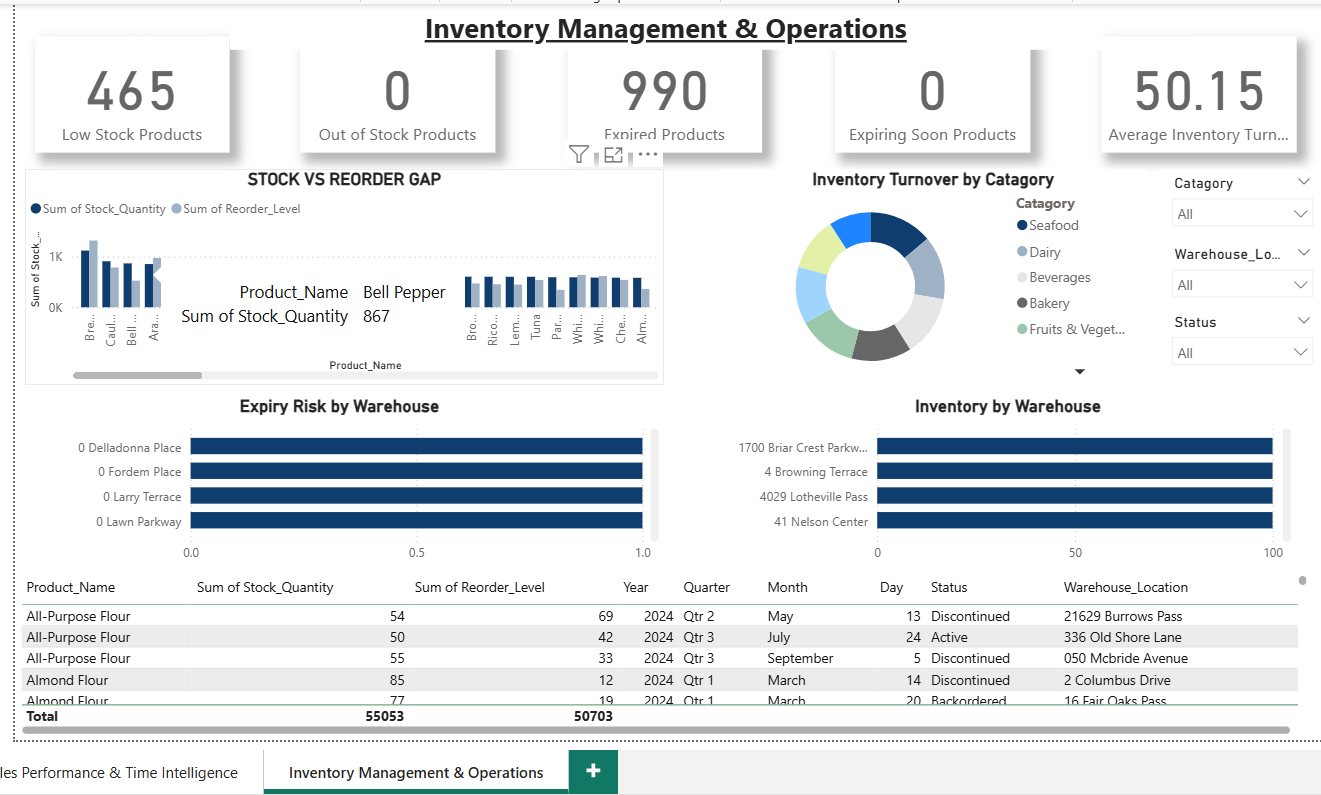

The dashboard page shown, as its layout file describes it:
{"tool":"powerbi","page":{"name":"Inventory Management & Operations","canvas":[1280,720],"ordinal":1},"visuals":[{"type":"card","fields":{"Values":["Grocery_Inventory_and_Sales_Dataset.Low Stock Products"]},"box":[20,31.2,190,113.8],"z":0},{"type":"card","fields":{"Values":["Grocery_Inventory_and_Sales_Dataset.Out of Stock Products"]},"box":[278.8,31.2,191.2,113.8],"z":1000},{"type":"card","fields":{"Values":["Grocery_Inventory_and_Sales_Dataset.Expired Products"]},"box":[540,31.2,190,113.8],"z":2000},{"type":"card","fields":{"Values":["Grocery_Inventory_and_Sales_Dataset.Expiring Soon Products"]},"box":[802.5,31.2,191.2,113.8],"z":3000},{"type":"card","fields":{"Values":["Grocery_Inventory_and_Sales_Dataset.Average Inventory Turnover"]},"box":[1062.5,31.2,191.2,113.8],"z":4000},{"type":"clusteredColumnChart","title":"STOCK VS REORDER GAP","fields":{"Category":["Grocery_Inventory_and_Sales_Dataset.Product_Name"],"Y":["Sum(Grocery_Inventory_and_Sales_Dataset.Stock_Quantity)","Sum(Grocery_Inventory_and_Sales_Dataset.Reorder_Level)"]},"box":[10,161.2,625,211.2],"z":5000},{"type":"donutChart","title":"Inventory Turnover by Catagory","fields":{"Category":["Grocery_Inventory_and_Sales_Dataset.Catagory"],"Y":["Grocery_Inventory_and_Sales_Dataset.Average Inventory Turnover"]},"box":[690,161.2,417.5,211.2],"z":6000},{"type":"barChart","title":"Inventory by Warehouse","fields":{"Category":["Grocery_Inventory_and_Sales_Dataset.Warehouse_Location"],"Y":["Grocery_Inventory_and_Sales_Dataset.Inventory by Warehouse"]},"box":[690,382.5,563.8,172.5],"z":7000},{"type":"barChart","title":"Expiry Risk by Warehouse","fields":{"Category":["Grocery_Inventory_and_Sales_Dataset.Warehouse_Location"],"Y":["Grocery_Inventory_and_Sales_Dataset.Expired Products"]},"box":[0,382.5,635,172.5],"z":8000},{"type":"tableEx","fields":{"Values":["Grocery_Inventory_and_Sales_Dataset.Product_Name","Sum(Grocery_Inventory_and_Sales_Dataset.Stock_Quantity)","Sum(Grocery_Inventory_and_Sales_Dataset.Reorder_Level)","Grocery_Inventory_and_Sales_Dataset.Expiration_Date.Variation.Date Hierarchy.Year","Grocery_Inventory_and_Sales_Dataset.Expiration_Date.Variation.Date Hierarchy.Quarter","Grocery_Inventory_and_Sales_Dataset.Expiration_Date.Variation.Date Hierarchy.Month","Grocery_Inventory_and_Sales_Dataset.Expiration_Date.Variation.Date Hierarchy.Day","Grocery_Inventory_and_Sales_Dataset.Status","Grocery_Inventory_and_Sales_Dataset.Warehouse_Location"]},"box":[0,554.4,1269.3,166],"z":9000},{"type":"slicer","fields":{"Values":["Grocery_Inventory_and_Sales_Dataset.Catagory"]},"box":[1121.2,161.2,158.8,78.8],"z":10000},{"type":"slicer","fields":{"Values":["Grocery_Inventory_and_Sales_Dataset.Warehouse_Location"]},"box":[1121.2,231.2,158.8,71.2],"z":11000},{"type":"slicer","fields":{"Values":["Grocery_Inventory_and_Sales_Dataset.Status"]},"box":[1121.2,297.5,158.8,85],"z":12000},{"type":"textbox","box":[210,0,852.5,45],"z":13000}]}

Visuals, with their boxes on the page's 1280x720 design canvas (x1, y1, x2, y2). These are canvas units, not pixel positions in the 1321x795 screenshot, which may show the page scaled, cropped or inside an application window:
card - Grocery_Inventory_and_Sales_Dataset.Low Stock Products: crop(20, 31, 210, 145)
card - Grocery_Inventory_and_Sales_Dataset.Out of Stock Products: crop(279, 31, 470, 145)
card - Grocery_Inventory_and_Sales_Dataset.Expired Products: crop(540, 31, 730, 145)
card - Grocery_Inventory_and_Sales_Dataset.Expiring Soon Products: crop(802, 31, 994, 145)
card - Grocery_Inventory_and_Sales_Dataset.Average Inventory Turnover: crop(1062, 31, 1254, 145)
"STOCK VS REORDER GAP" clusteredColumnChart: crop(10, 161, 635, 372)
"Inventory Turnover by Catagory" donutChart: crop(690, 161, 1108, 372)
"Inventory by Warehouse" barChart: crop(690, 382, 1254, 555)
"Expiry Risk by Warehouse" barChart: crop(0, 382, 635, 555)
tableEx - Grocery_Inventory_and_Sales_Dataset.Product_Name x Sum(Grocery_Inventory_and_Sales_Dataset.Stock_Quantity): crop(0, 554, 1269, 720)
slicer - Grocery_Inventory_and_Sales_Dataset.Catagory: crop(1121, 161, 1280, 240)
slicer - Grocery_Inventory_and_Sales_Dataset.Warehouse_Location: crop(1121, 231, 1280, 302)
slicer - Grocery_Inventory_and_Sales_Dataset.Status: crop(1121, 298, 1280, 382)
textbox: crop(210, 0, 1062, 45)
